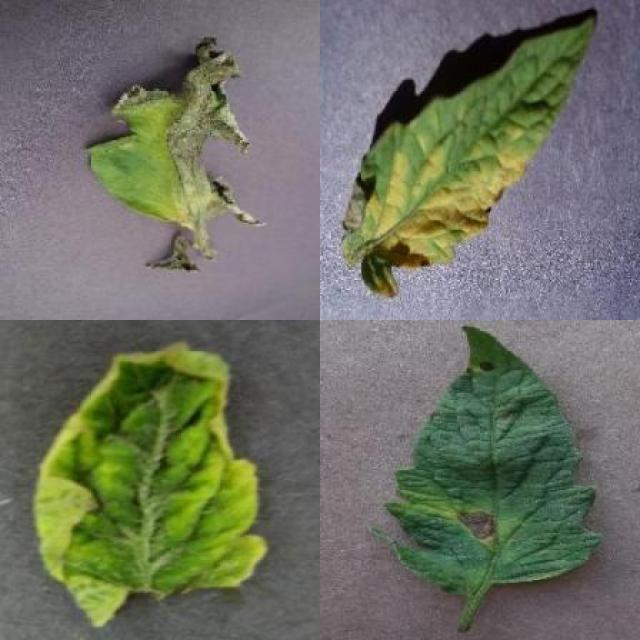Early Blight: (376, 325, 603, 592)
Late Blight: (84, 37, 260, 272)
Leaf Mold: (342, 11, 598, 299)
Yellow Leaf Curl Virus: (33, 338, 270, 628)
